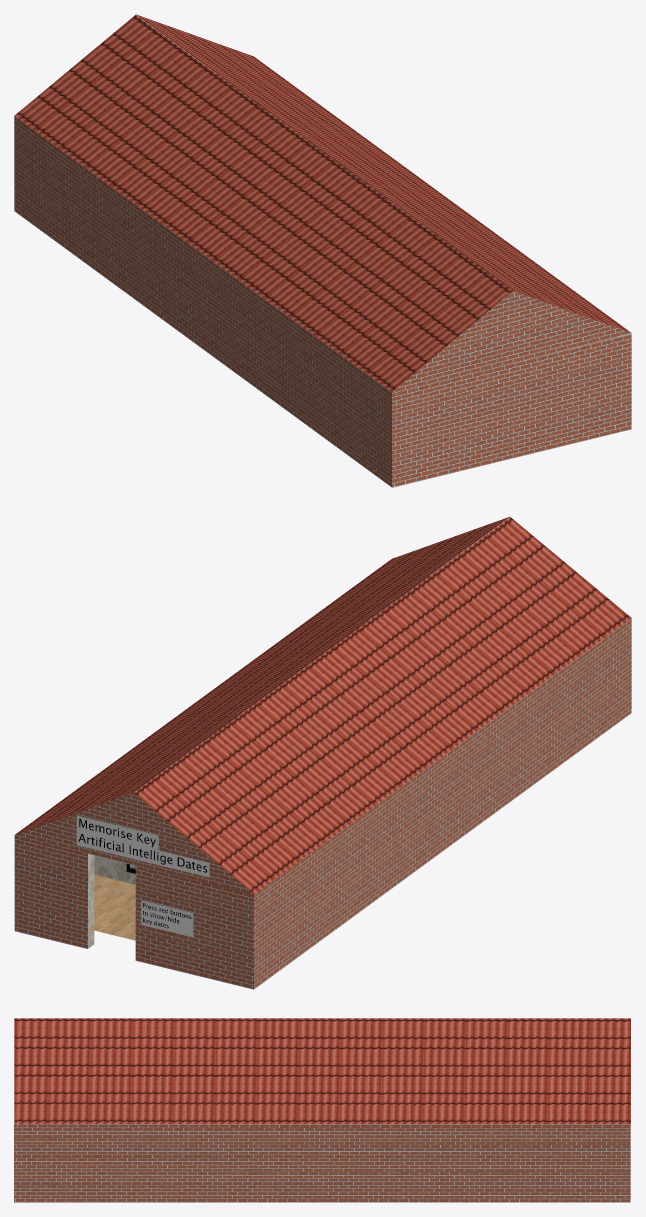
File: walls_105.gltf
The picture shows the model from 3 angles, top to bottom: view 1: azimuth 30°, elevation 25°; view 2: azimuth 150°, elevation 25°; view 3: azimuth 270°, elevation 25°; orthographic projection. The views are drawn at different scales.
Parts seen in each view (by area): view 1: polySurface4748; view 2: polySurface4748; view 3: polySurface4748.
Part boxes in pixels (box(x1,y1,x2,y2)): polySurface4748: box(14, 14, 631, 487); polySurface4748: box(14, 517, 631, 989); polySurface4748: box(14, 1018, 630, 1202).
Size of the model in its own units: 15.93 by 10.82 by 43.48.
Materials: 15 (11 with a texture image).
